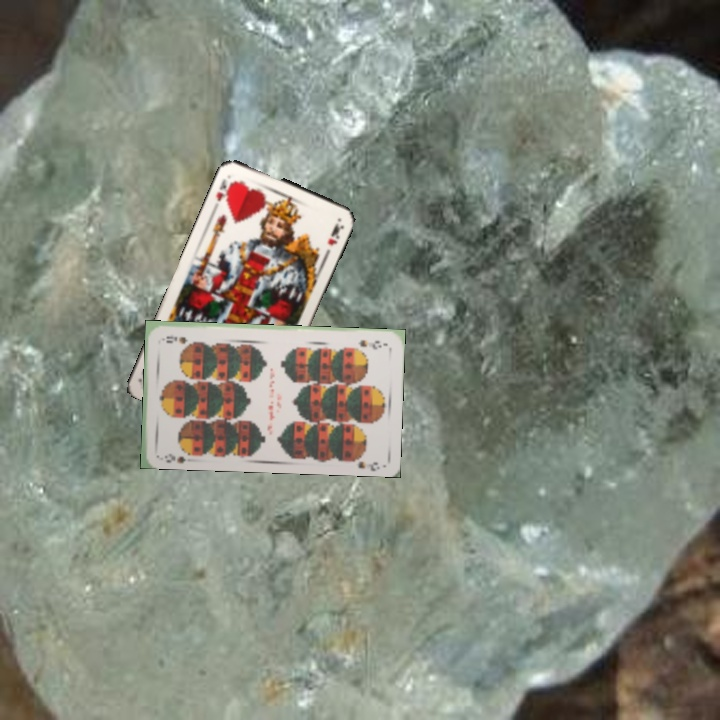HK: (212, 174, 237, 205)
S9: (161, 445, 196, 465), (354, 336, 389, 351)
